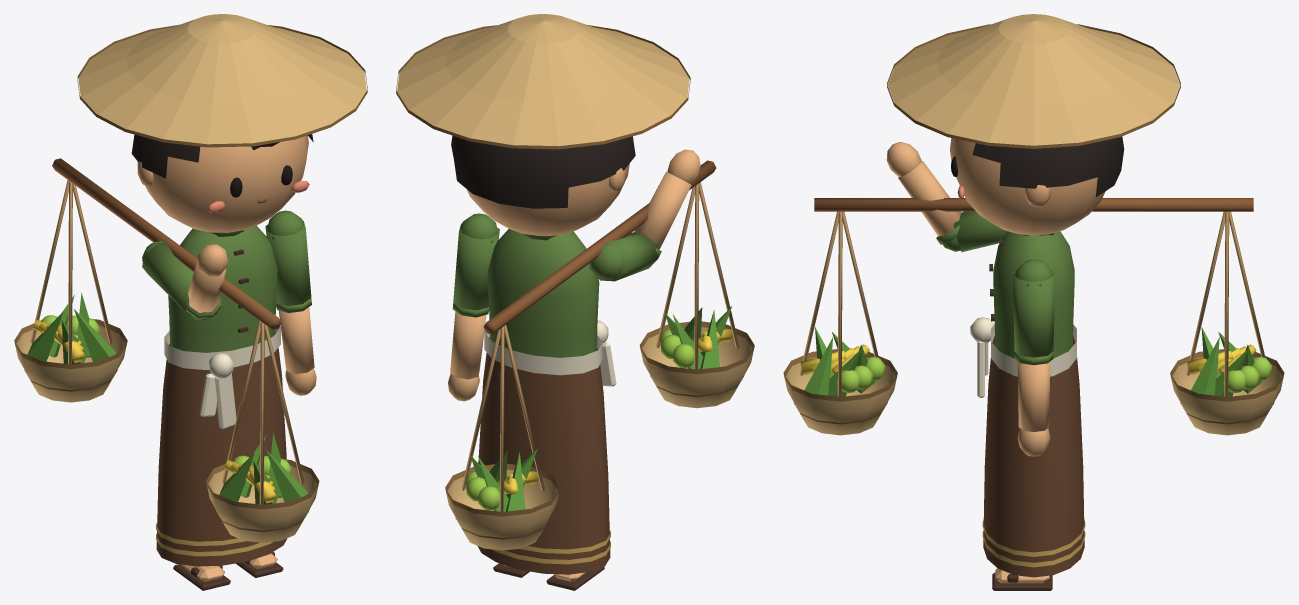
The model's file is vendor_yoke.glb.
3 renders of one model, left to right at view 1: azimuth 30°, elevation 25°; view 2: azimuth 150°, elevation 25°; view 3: azimuth 270°, elevation 25°, orthographic.
Parts seen in each view (by area): view 1: head, body, prop_yoke, arm_L, forearm_L, forearm_R, arm_R, shin_R, shin_L; view 2: head, body, prop_yoke, arm_L, forearm_R, forearm_L, arm_R, shin_R; view 3: head, body, prop_yoke, arm_L, forearm_L, forearm_R, arm_R, shin_L.
Boxes of the visible parts, x1,y1,x2,y2 form: head: (77, 14, 367, 232); body: (156, 225, 287, 566); prop_yoke: (14, 158, 319, 542); arm_L: (265, 210, 311, 306); forearm_L: (276, 298, 316, 395); forearm_R: (185, 244, 228, 319); arm_R: (142, 240, 217, 319); shin_R: (173, 564, 230, 590); shin_L: (236, 552, 283, 577); head: (396, 14, 690, 235); body: (478, 229, 616, 574); prop_yoke: (445, 160, 754, 550); arm_L: (453, 213, 499, 310); forearm_R: (634, 149, 700, 257); forearm_L: (448, 302, 488, 401); arm_R: (589, 232, 658, 281); shin_R: (546, 566, 604, 590); head: (887, 14, 1180, 235); body: (970, 231, 1085, 577); prop_yoke: (783, 198, 1284, 435); arm_L: (1012, 259, 1055, 357); forearm_L: (1014, 352, 1053, 456); forearm_R: (886, 142, 960, 251); arm_R: (939, 211, 1007, 252); shin_L: (992, 568, 1052, 590).
Size of the model in its own units: 0.7702 by 1.59 by 1.31.
